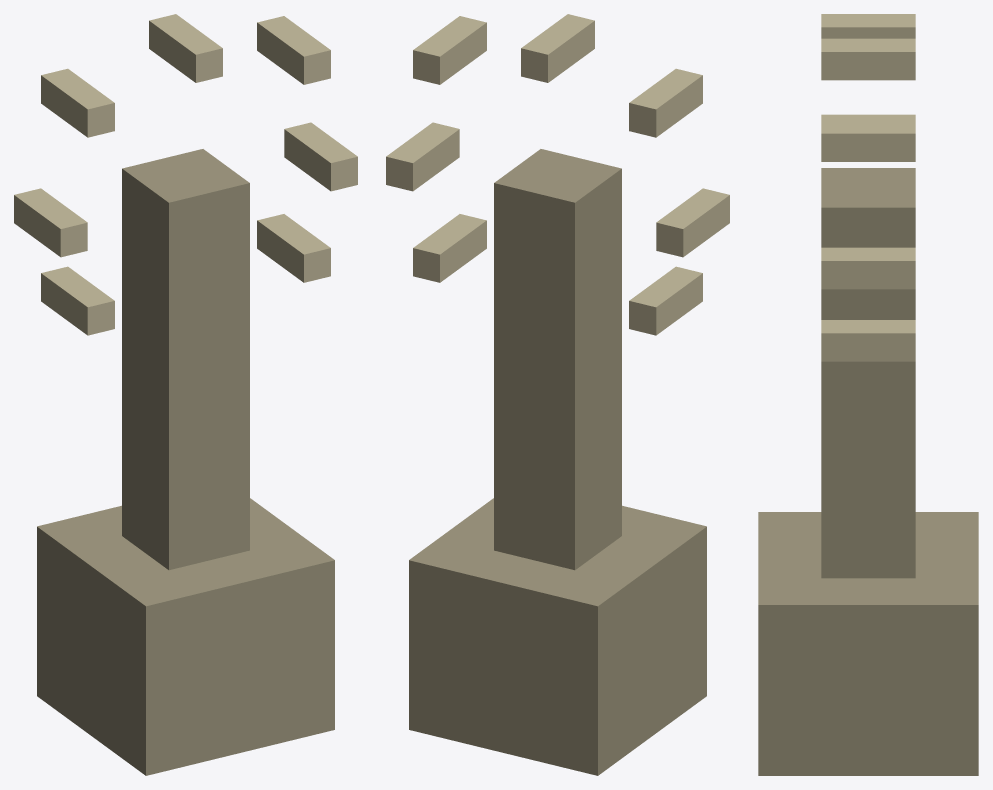
Rendered from rueca_sauce_01.glb.
The picture shows the model from 3 angles, left to right: view 1: azimuth 30°, elevation 25°; view 2: azimuth 150°, elevation 25°; view 3: azimuth 270°, elevation 25°; orthographic projection.
Visible parts, largest first — view 1: rueca_sauce; view 2: rueca_sauce; view 3: rueca_sauce.
Part boxes in pixels (<box>): rueca_sauce: <box>14,14,357,775</box>; rueca_sauce: <box>386,14,729,775</box>; rueca_sauce: <box>758,14,978,775</box>.
Size of the model in its own units: 0.7333 by 1.6 by 0.4667.
